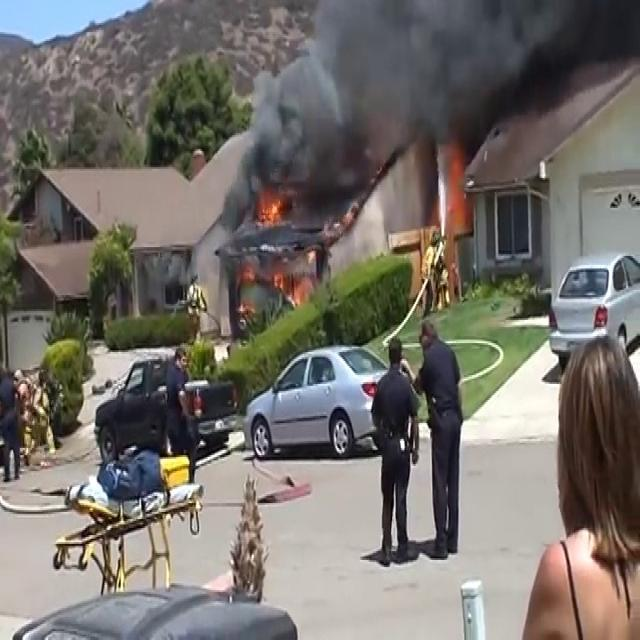Fire: (252, 185, 290, 233)
Smoke: (228, 0, 474, 231)
